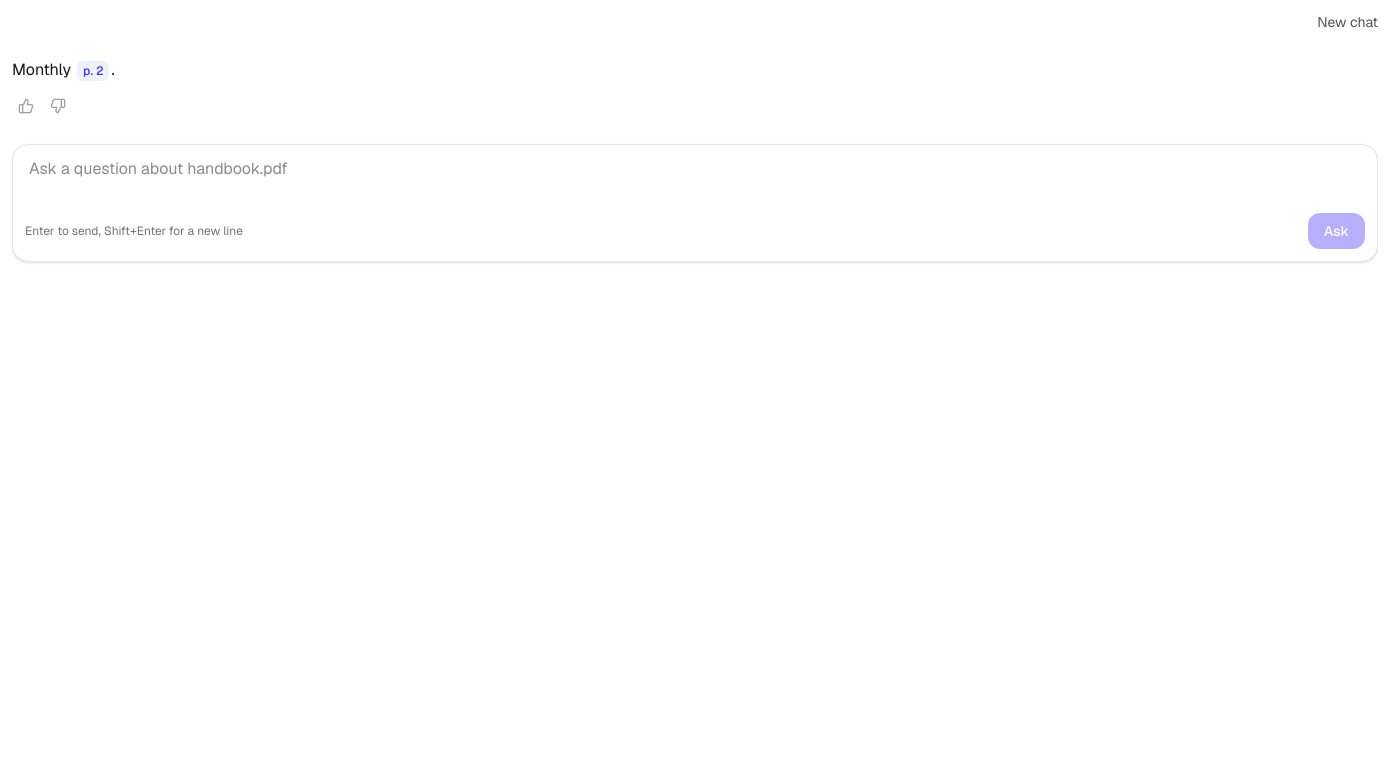
Test: ChatView — asking › opens the cited page in the side panel, and closes it
The width and height of the screenshot is (1390, 780).
Click the button named "Open page 2" at (93, 71), box [77,61,109,81]
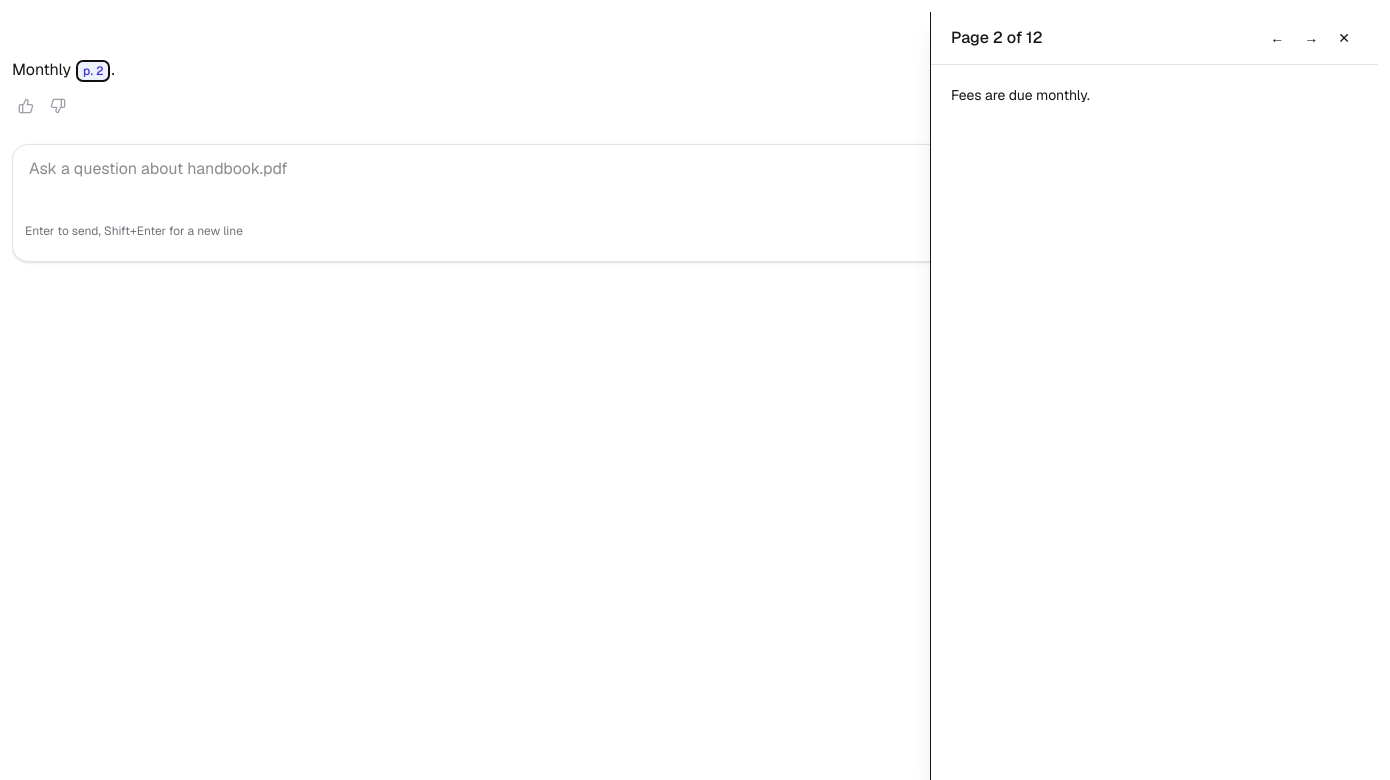
Expected: the text "Fees are due monthly." is shown, [951,86,1090,104]
Click the button named "close page" at (1344, 38), box [1330,24,1358,52]
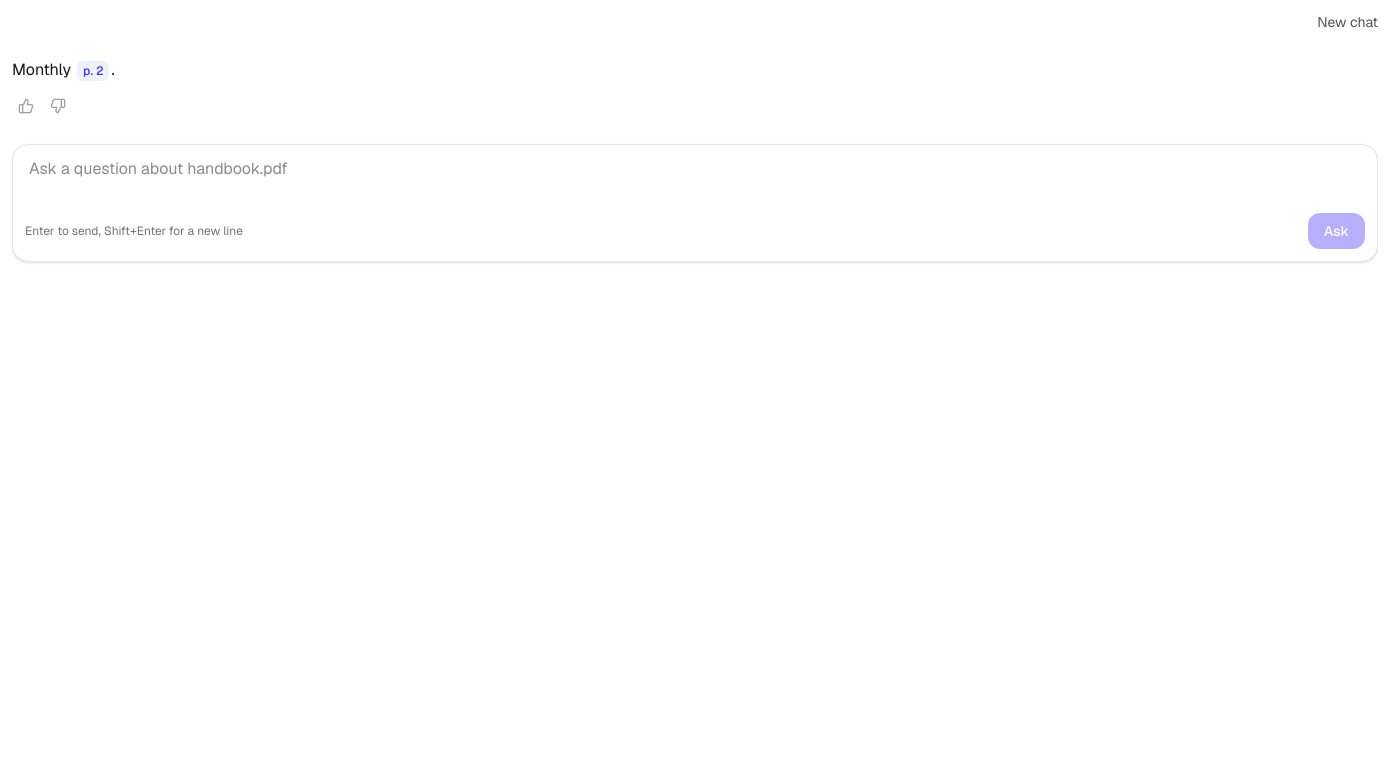
Expected: the text "Fees are due monthly." is gone
